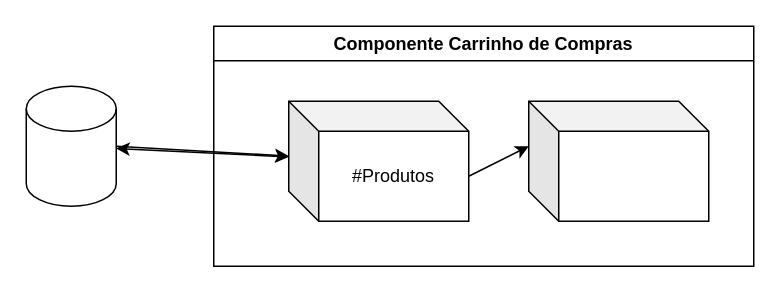
Image size: 780x293. Some labels were removed from this diagram. Each missing label, with the box of its shape:
#Produto: (527, 100, 709, 221)
store VUEX: (25, 85, 116, 206)
